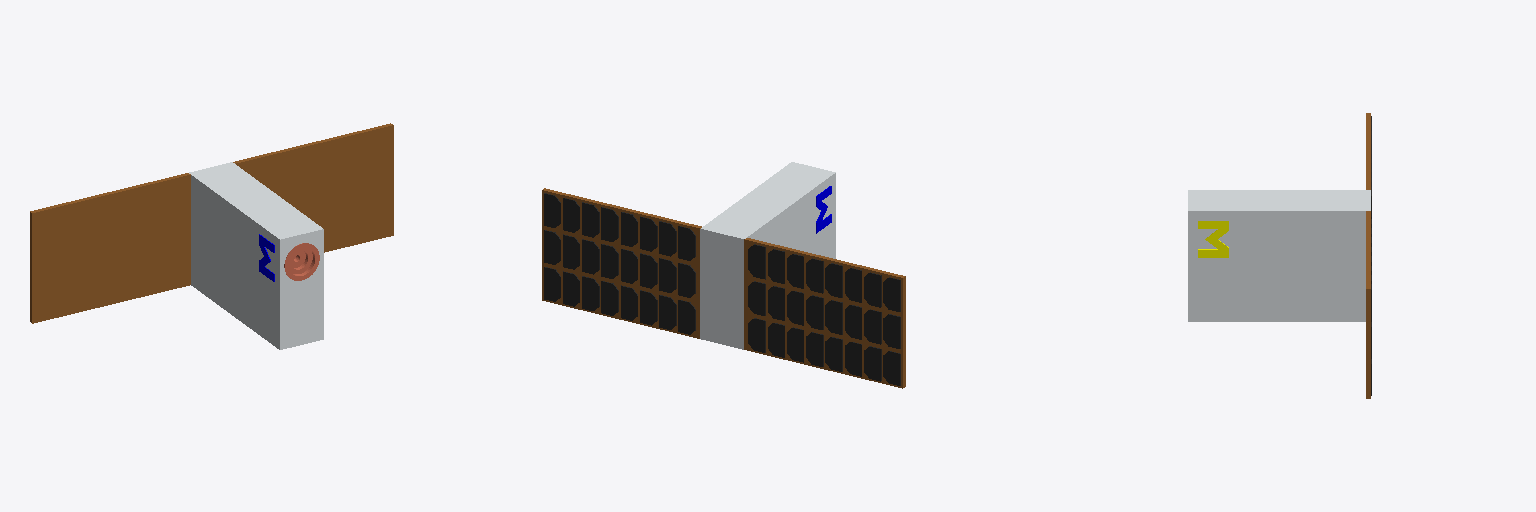
The model's file is CubeSat.obj.
3 renders of one model, left to right at view 1: azimuth 30°, elevation 25°; view 2: azimuth 150°, elevation 25°; view 3: azimuth 270°, elevation 25°, orthographic.
Visible parts, largest first — view 1: Part__Feature013, Part__Feature, Part__Feature034, Part__Feature001; view 2: Part__Feature, Part__Feature013, Part__Feature034, Part__Feature008, Part__Feature012, Part__Feature039, Part__Feature028, Part__Feature009, Part__Feature053, Part__Feature052, Part__Feature043, Part__Feature017 (+28 smaller); view 3: Part__Feature, Part__Feature034, Part__Feature015.
Boxes of the visible parts, box(x1,y1,x2,y2) form: Part__Feature013: box(30, 173, 190, 323); Part__Feature: box(189, 162, 323, 349); Part__Feature034: box(233, 123, 393, 252); Part__Feature001: box(284, 243, 319, 280); Part__Feature: box(700, 162, 835, 349); Part__Feature013: box(744, 238, 905, 388); Part__Feature034: box(542, 188, 701, 338); Part__Feature008: box(864, 346, 881, 381); Part__Feature012: box(864, 272, 881, 307); Part__Feature039: box(678, 263, 695, 297); Part__Feature028: box(601, 244, 618, 278); Part__Feature009: box(883, 314, 900, 348); Part__Feature053: box(659, 295, 676, 329); Part__Feature052: box(601, 281, 618, 315); Part__Feature043: box(659, 221, 676, 256); Part__Feature017: box(864, 309, 881, 344); Part__Feature: box(1188, 190, 1370, 321); Part__Feature034: box(1366, 211, 1370, 398); Part__Feature015: box(1198, 221, 1228, 257).
Bounding box in the file's own units: 82 × 24 × 36.33.